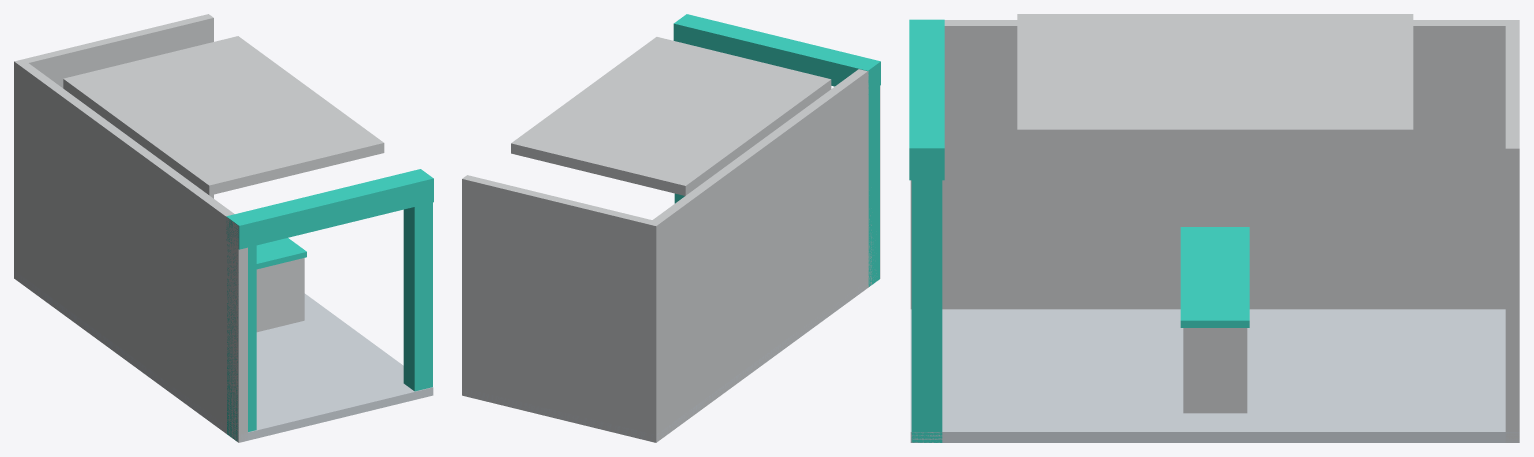
3 views of the same model, side by side, from view 1: azimuth 30°, elevation 25°; view 2: azimuth 150°, elevation 25°; view 3: azimuth 270°, elevation 25° (orthographic). The views are drawn at different scales.
Parts seen in each view (by area): view 1: Exhibition Booth Concept; view 2: Exhibition Booth Concept; view 3: Exhibition Booth Concept.
Part boxes in pixels (<box>): Exhibition Booth Concept: <box>14,14,433,442</box>; Exhibition Booth Concept: <box>462,14,880,442</box>; Exhibition Booth Concept: <box>909,14,1519,442</box>.
Bounding box in the file's own units: 3 × 3.34 × 6.02.
